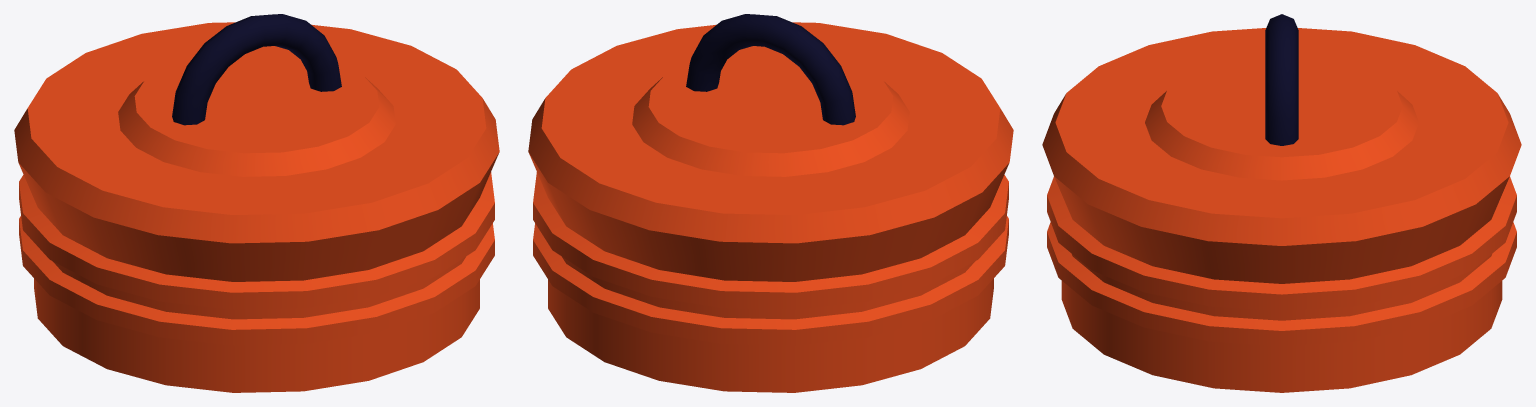
The model's file is saizi.fbx.
3 renders of one model, left to right at view 1: azimuth 30°, elevation 25°; view 2: azimuth 150°, elevation 25°; view 3: azimuth 270°, elevation 25°, orthographic.
Visible parts, largest first — view 1: _Cylinder002; view 2: _Cylinder002; view 3: _Cylinder002.
Part boxes in pixels (x1=…): _Cylinder002: x1=14, y1=14, x2=499, y2=392; _Cylinder002: x1=528, y1=14, x2=1013, y2=392; _Cylinder002: x1=1042, y1=14, x2=1521, y2=392.
Size of the model in its own units: 0.2568 by 0.1641 by 0.2568.
